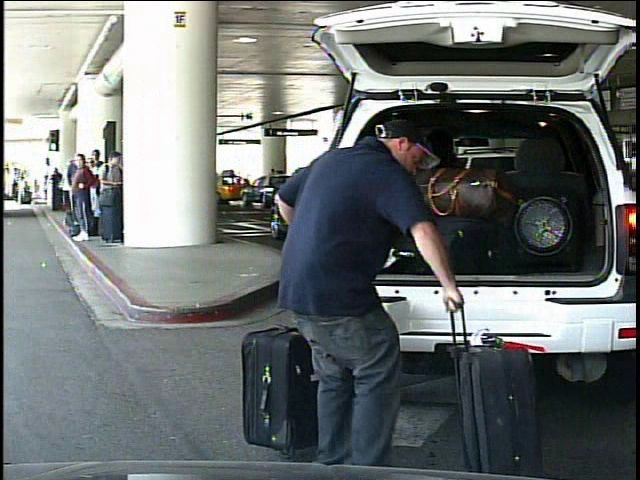person: (274, 103, 464, 478), (18, 176, 29, 207)
